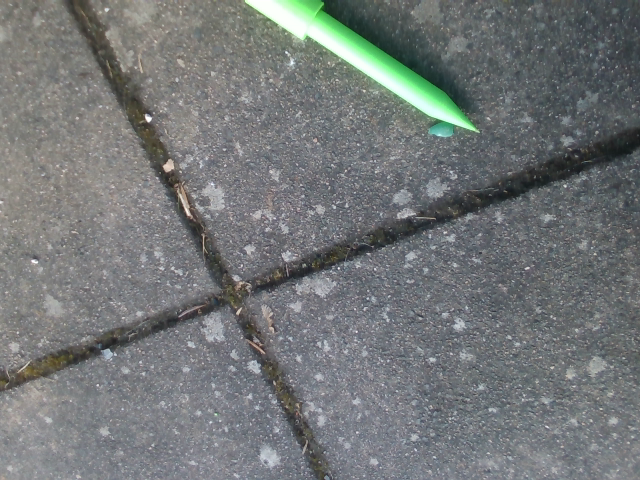Probe: (234, 1, 487, 140)
